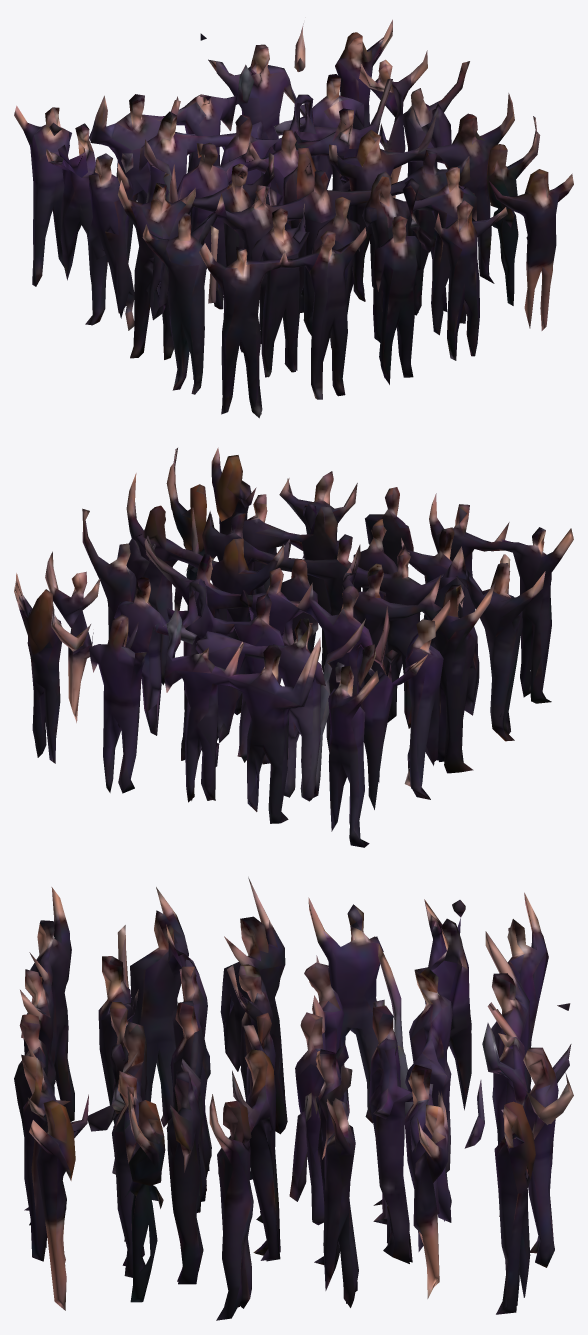
Rendered from crowd-block-s1.glb.
3 renders of one model, top to bottom at view 1: azimuth 30°, elevation 25°; view 2: azimuth 150°, elevation 25°; view 3: azimuth 270°, elevation 25°, orthographic. The views are drawn at different scales.
Visible parts, largest first — view 1: geometry_0; view 2: geometry_0; view 3: geometry_0.
Boxes of the visible parts, x1,y1,x2,y2 form: geometry_0: [14, 19, 573, 418]; geometry_0: [14, 447, 573, 847]; geometry_0: [14, 877, 573, 1320].
Bounding box in the file's own units: 0.9826 × 0.4785 × 0.9788.
1 material, 1 textured.
